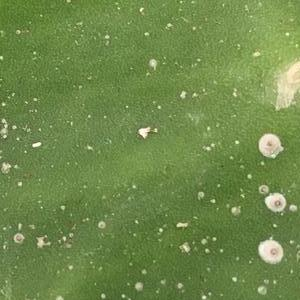Femea: (256, 239, 282, 263), (258, 135, 279, 161), (267, 192, 286, 211), (12, 231, 25, 242), (258, 182, 269, 193), (95, 220, 108, 228)
Linfa: (174, 241, 194, 254), (227, 206, 243, 217), (138, 266, 151, 278), (176, 280, 187, 294), (131, 280, 143, 291), (197, 236, 209, 245), (201, 247, 213, 254)
Macho: (173, 217, 188, 230), (29, 137, 43, 148)
